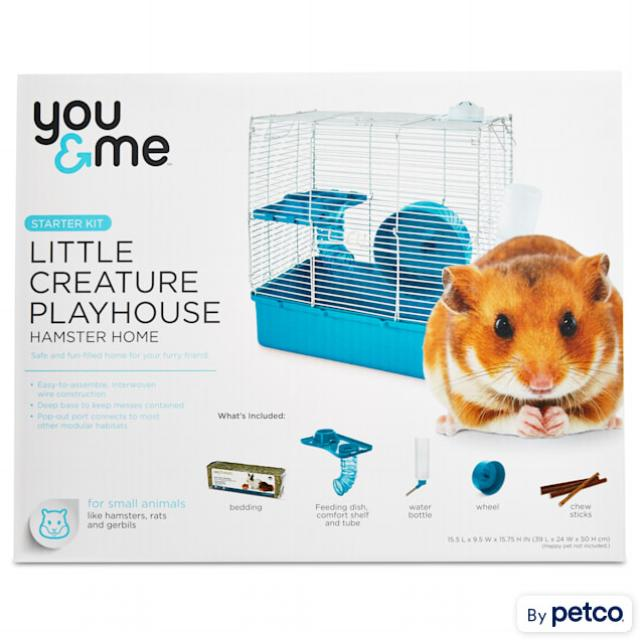hamster: (425, 235, 623, 441)
